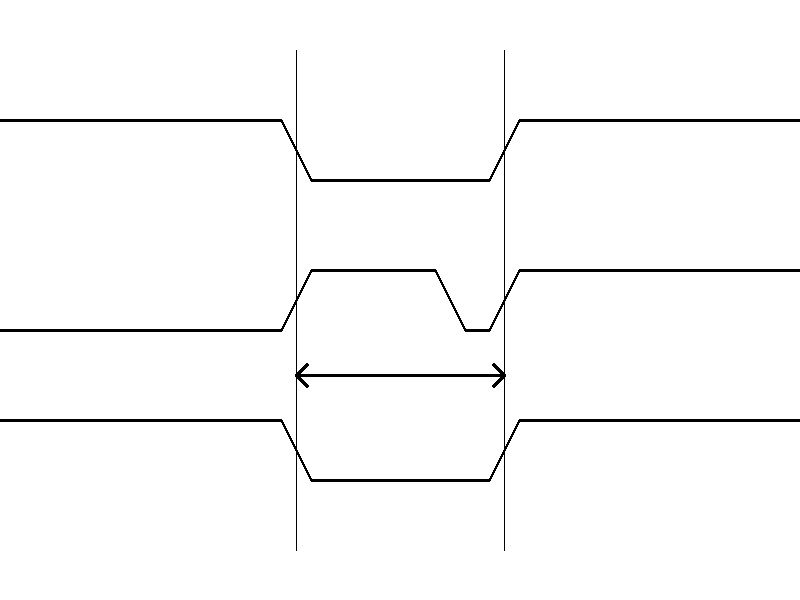double_arrow: (296, 360, 504, 390)
